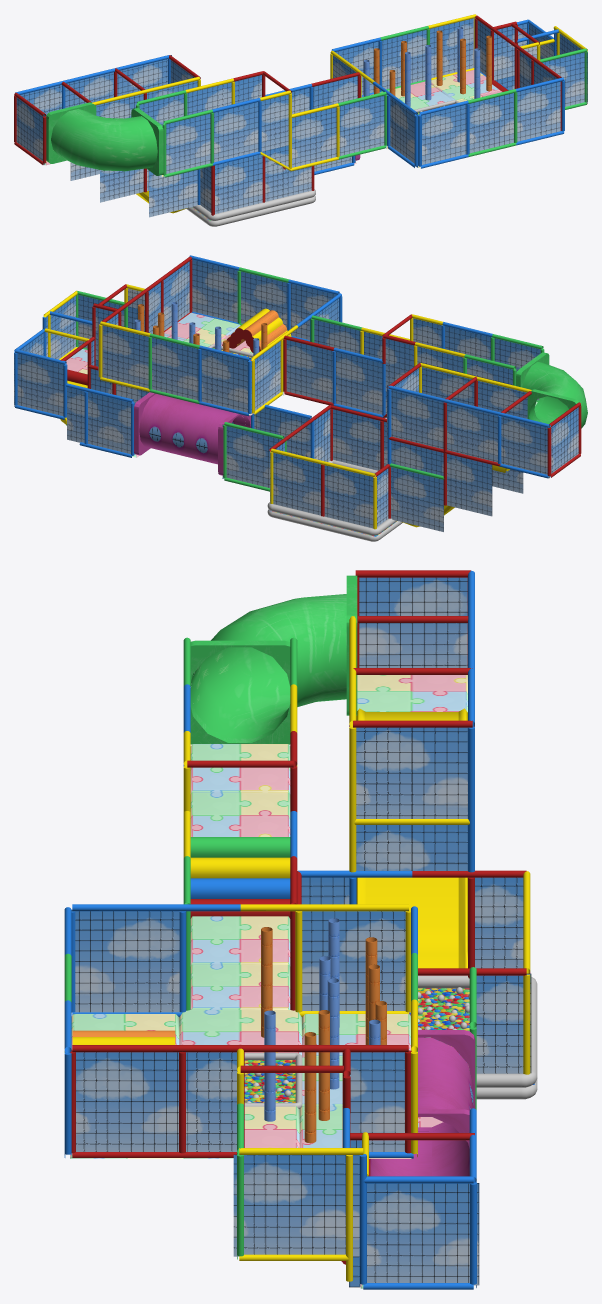
Rendered from Indoor_Playground.fbx.
The picture shows the model from 3 angles, top to bottom: view 1: azimuth 30°, elevation 25°; view 2: azimuth 150°, elevation 25°; view 3: azimuth 270°, elevation 25°; orthographic projection. The views are drawn at different scales.
Visible parts, largest first — view 1: Tunnel_C2, pPlane58, pPlane93, pPlane44, pPlane61, pPlane59, pPlane45, pPlane62, pPlane63, pPlane38, pPlane66, Ballpit8 (+60 smaller); view 2: Tunnel_S2, Tunnel_C2, pPlane33, pPlane94, pPlane65, pPlane86, pPlane56, pPlane95, pPlane26, pPlane80, pPlane92, pPlane27 (+61 smaller); view 3: Tunnel_C2, pPlane64, pPlane76, pPlane79, pPlane70, pPlane37, pPlane32, pPlane69, Slide2, Tunnel_S2, pPlane36, pPlane99 (+46 smaller).
Part boxes in pixels (<box>): Tunnel_C2: <box>46,102,163,175</box>; pPlane58: <box>292,106,340,167</box>; pPlane93: <box>215,154,262,213</box>; pPlane44: <box>166,112,214,173</box>; pPlane61: <box>422,104,469,164</box>; pPlane59: <box>340,95,384,155</box>; pPlane45: <box>214,102,258,161</box>; pPlane62: <box>470,93,513,153</box>; pPlane63: <box>517,81,560,141</box>; pPlane38: <box>149,170,197,217</box>; pPlane66: <box>382,30,426,89</box>; Ballpit8: <box>186,189,315,226</box>; Tunnel_S2: <box>139,394,245,464</box>; Tunnel_C2: <box>516,352,587,428</box>; pPlane33: <box>393,467,443,531</box>; pPlane94: <box>324,465,373,528</box>; pPlane65: <box>197,349,247,412</box>; pPlane86: <box>67,387,117,450</box>; pPlane56: <box>332,351,382,414</box>; pPlane95: <box>273,452,320,515</box>; pPlane26: <box>441,452,492,516</box>; pPlane80: <box>17,353,66,417</box>; pPlane92: <box>333,409,380,470</box>; pPlane27: <box>447,403,497,462</box>; Tunnel_C2: <box>190,575,357,744</box>; pPlane64: <box>71,910,181,1012</box>; pPlane76: <box>233,1154,345,1256</box>; pPlane79: <box>367,1183,479,1285</box>; pPlane70: <box>76,1052,187,1151</box>; pPlane37: <box>356,727,467,818</box>; pPlane32: <box>359,577,467,667</box>; pPlane69: <box>302,911,410,1012</box>; Slide2: <box>356,708,467,968</box>; Tunnel_S2: <box>370,1037,473,1176</box>; pPlane36: <box>356,825,467,870</box>; pPlane99: <box>476,973,531,1073</box>.
Bounding box in the file's own units: 62.51 × 16.64 × 24.8.
